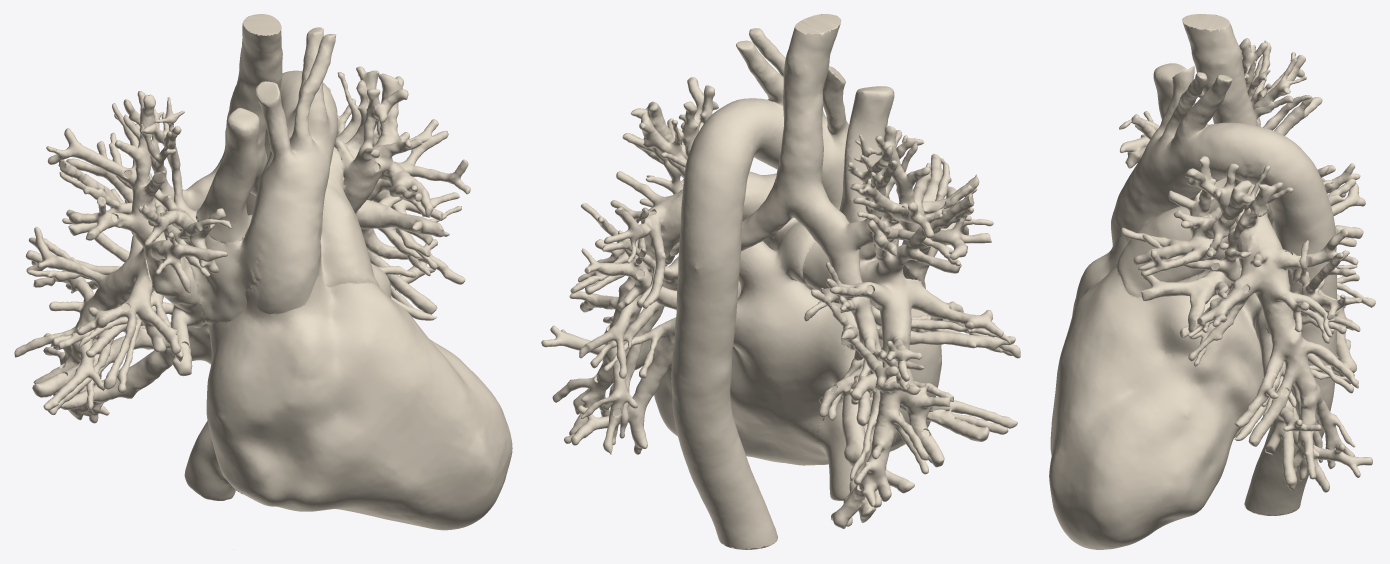
3 renders of one model, left to right at view 1: azimuth 30°, elevation 25°; view 2: azimuth 150°, elevation 25°; view 3: azimuth 270°, elevation 25°, orthographic. The views are drawn at different scales.
Parts seen in each view (by area): view 1: rijnstate_broncovascular_model; view 2: rijnstate_broncovascular_model; view 3: rijnstate_broncovascular_model.
Part boxes in pixels (bbox=[...]): rijnstate_broncovascular_model: bbox=[14, 14, 512, 530]; rijnstate_broncovascular_model: bbox=[541, 14, 1020, 549]; rijnstate_broncovascular_model: bbox=[1049, 14, 1375, 549].
Bounding box in the file's own units: 9.38 × 10.36 × 6.57.
